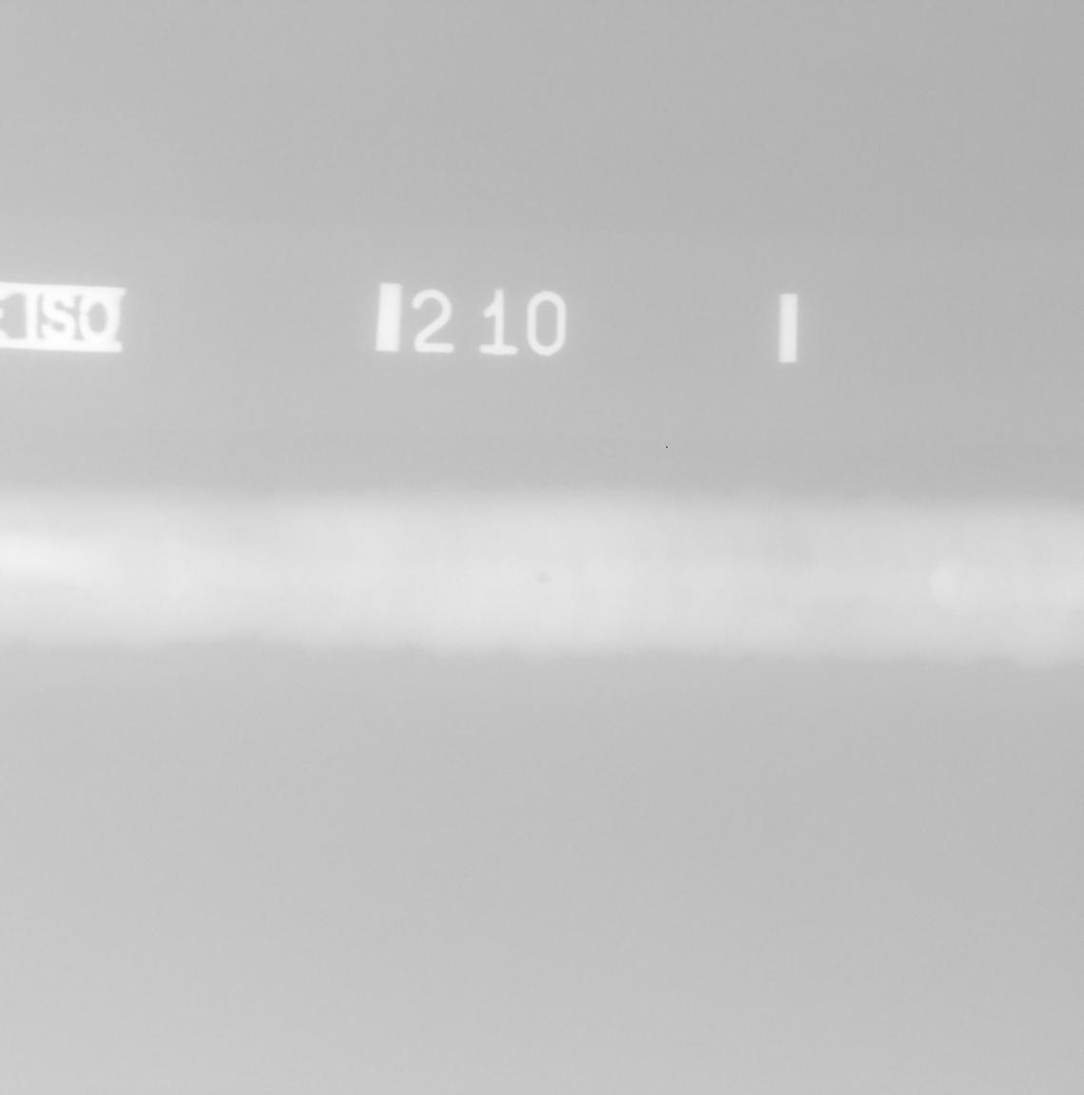Pore/Porosity: (536, 573, 547, 583), (381, 578, 387, 585), (1021, 630, 1026, 635), (1012, 604, 1017, 608), (339, 583, 343, 587), (998, 589, 1002, 593), (125, 564, 130, 567), (977, 560, 980, 564)
